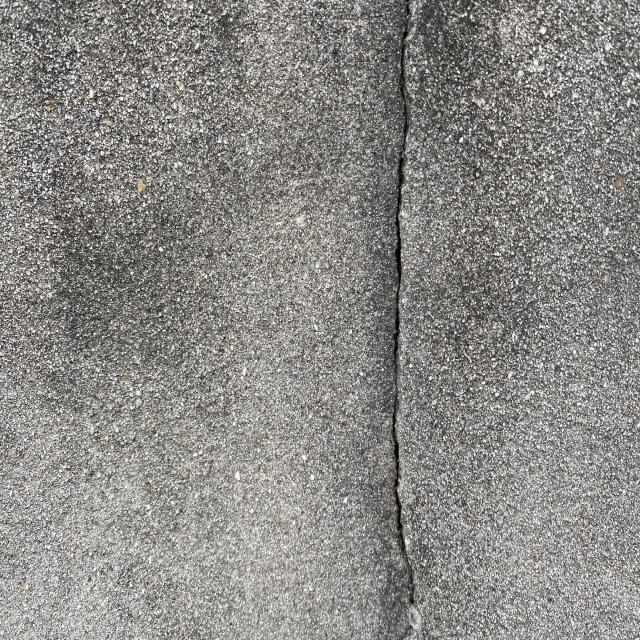SurfaceCrack: (338, 0, 467, 639)
